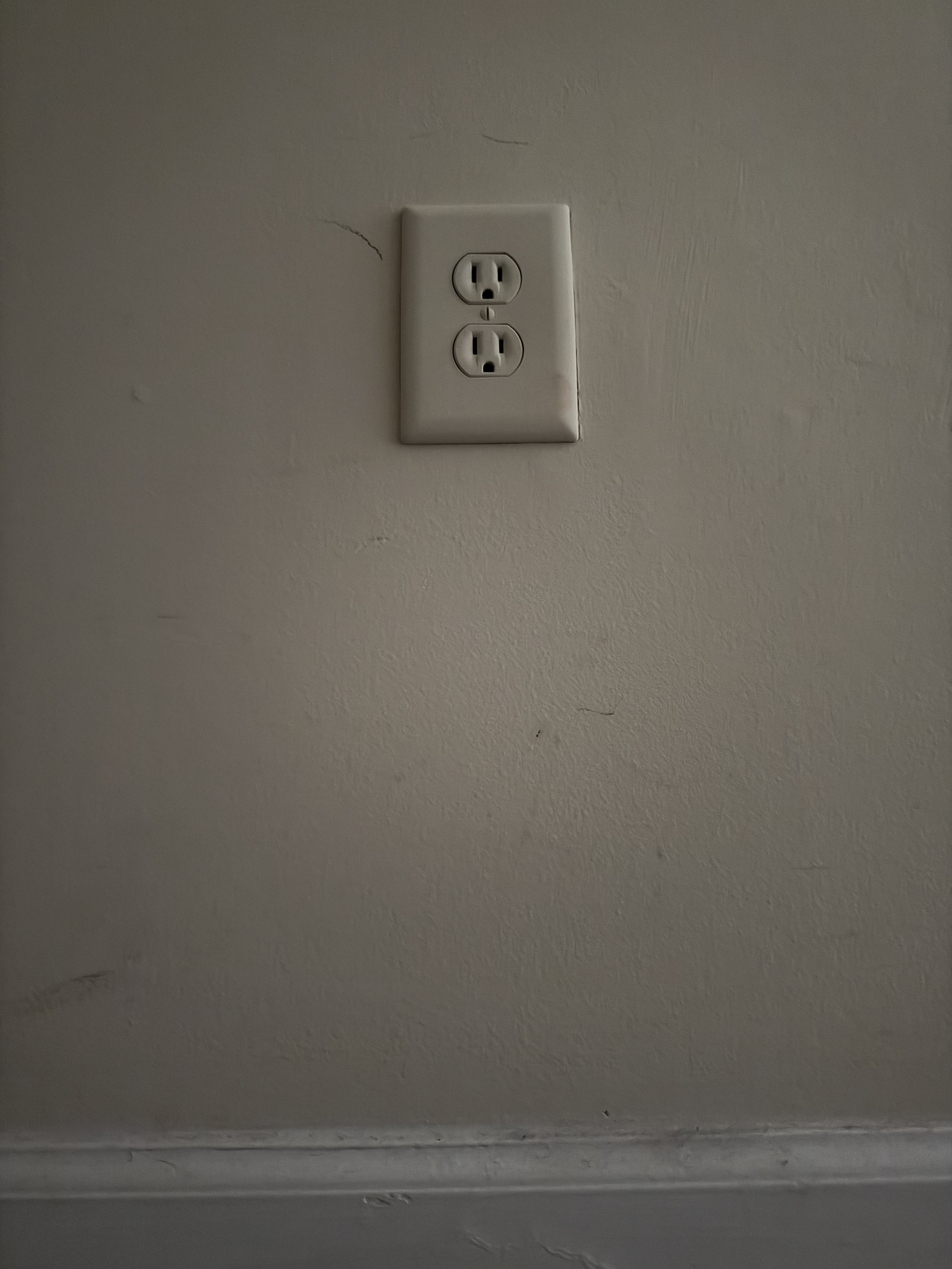outlet: (402, 206, 574, 444)
